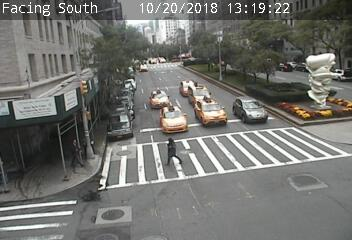car: (233, 97, 268, 123), (195, 99, 227, 125), (160, 106, 187, 134), (188, 84, 211, 107), (150, 91, 169, 108), (180, 81, 198, 96)
